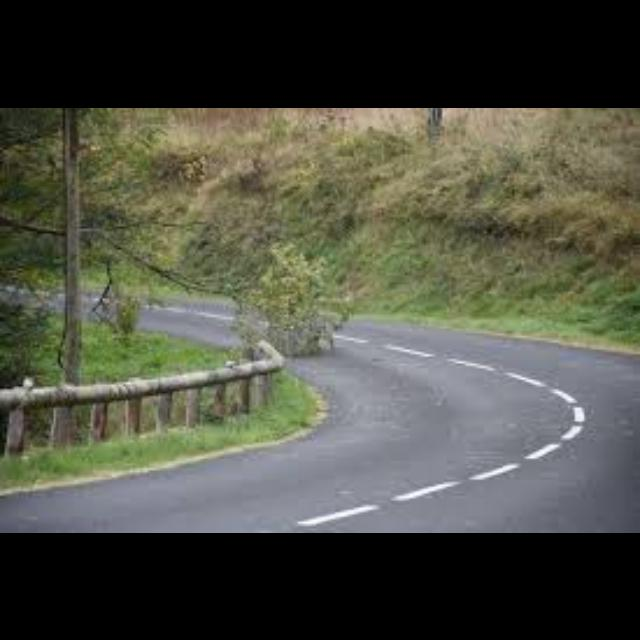Fallen Tree: (0, 207, 215, 295)
